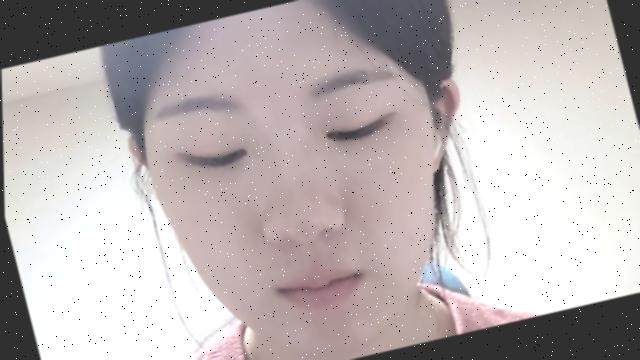eye: (334, 125, 362, 152), (209, 152, 237, 176)
iris: (323, 114, 386, 146), (189, 144, 247, 174)
